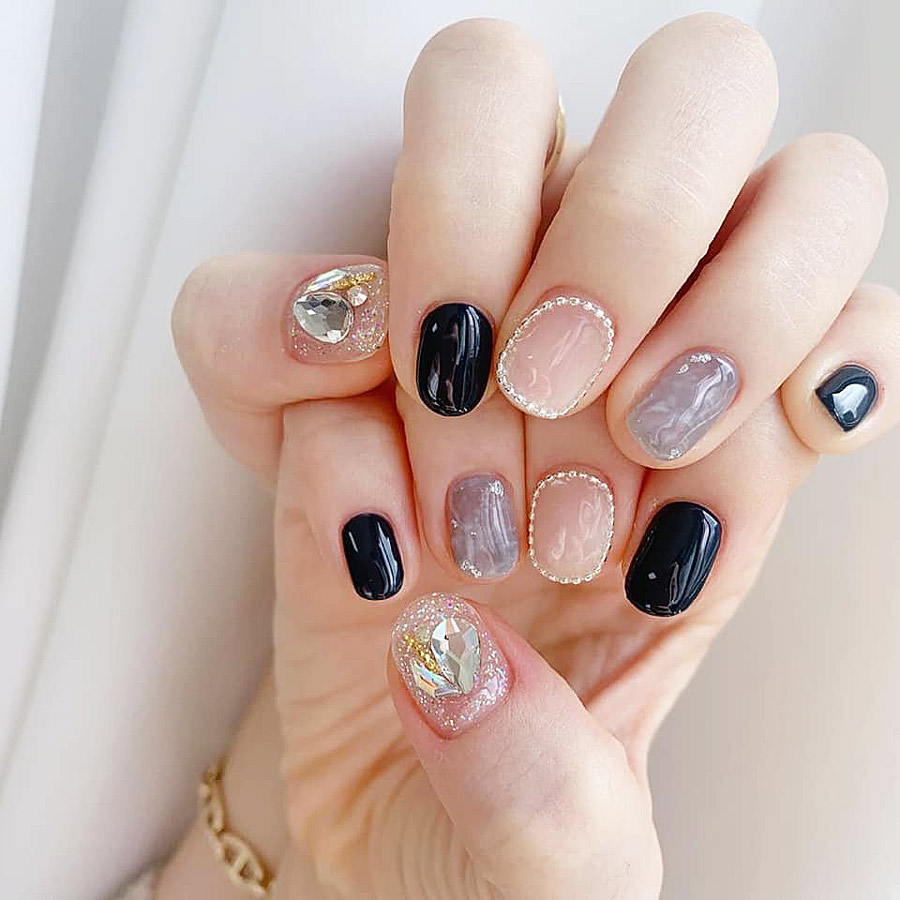nails: (384, 590, 520, 748), (611, 343, 749, 467), (494, 289, 620, 423), (622, 493, 730, 626), (278, 257, 393, 364), (405, 291, 497, 422), (530, 464, 616, 590), (435, 466, 524, 584), (333, 506, 410, 608), (809, 357, 886, 439)
